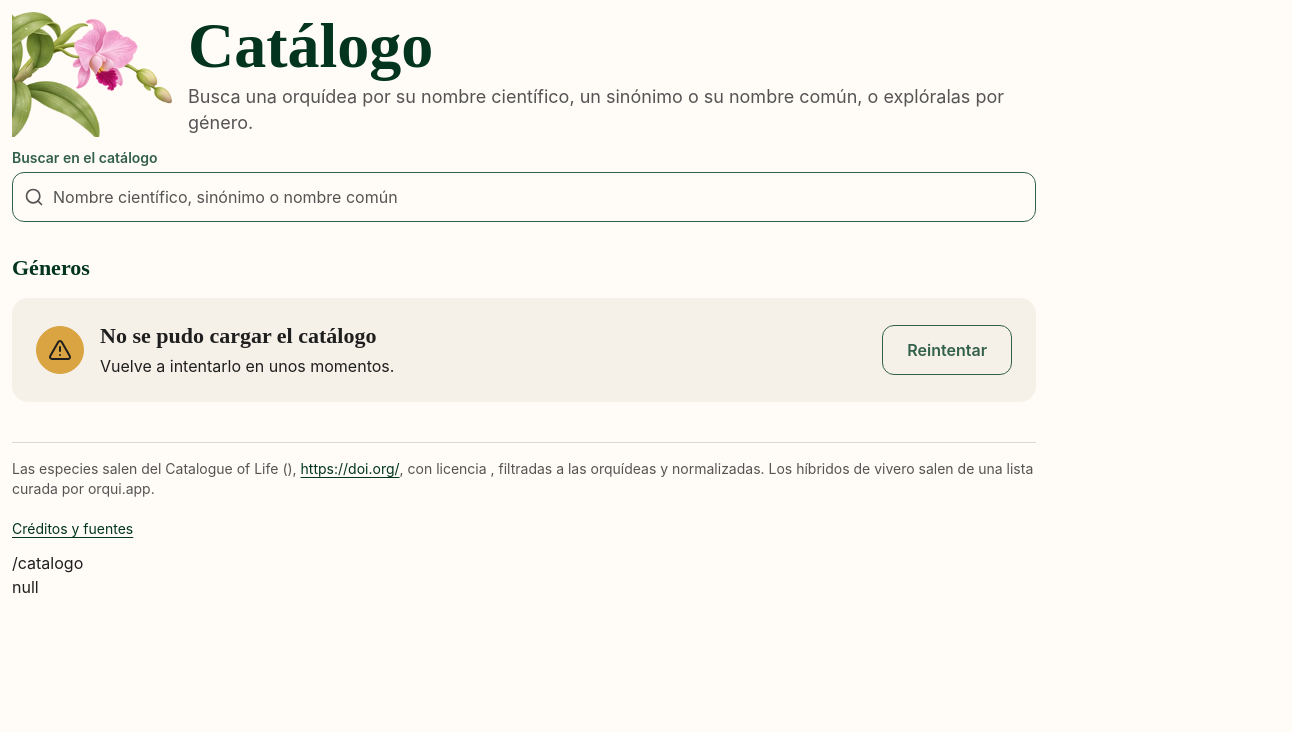
Test: portada del catálogo › con un fallo, «Reintentar» lo vuelve a pedir
Expected: the text "No se pudo cargar el catálogo" is shown, top-left (100, 323), bottom-right (376, 348)
Click the button "Reintentar": (947, 350) top-left (882, 325), bottom-right (1012, 375)
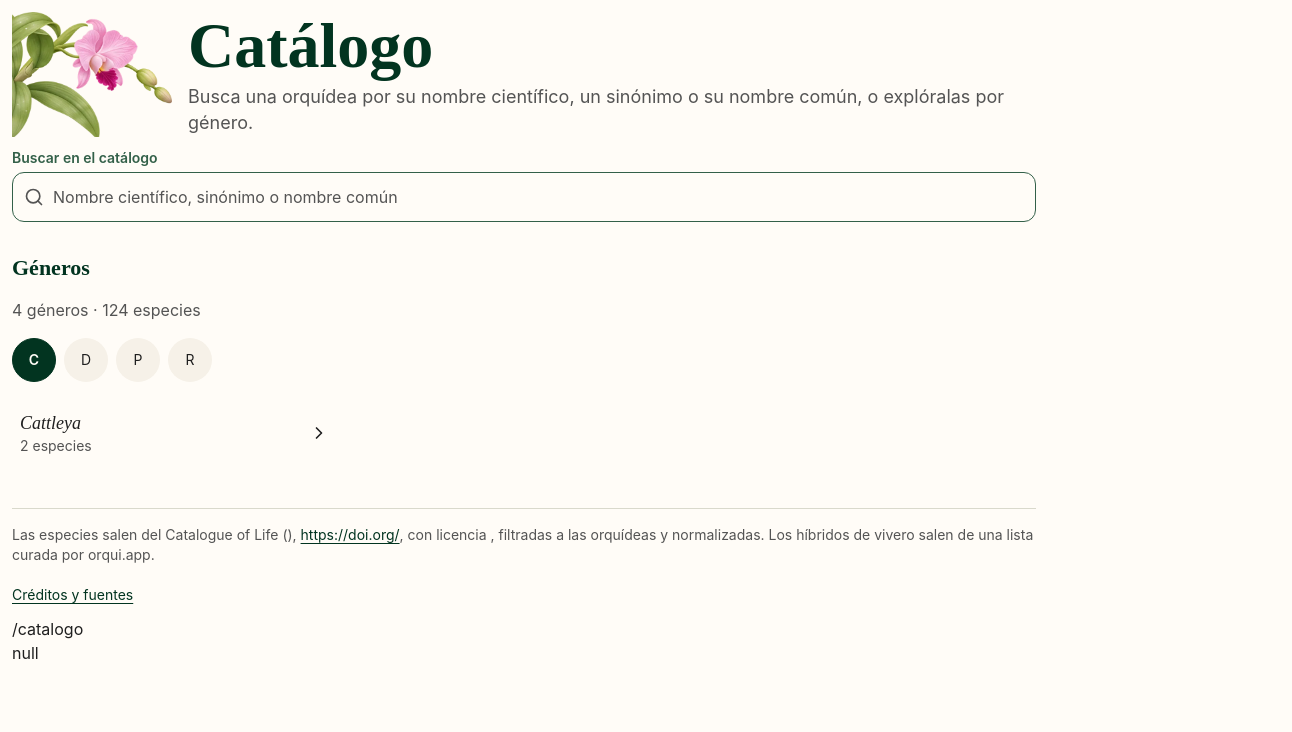
Expected: the link "Cattleya 2 especies" is shown, top-left (20, 413), bottom-right (329, 454)
